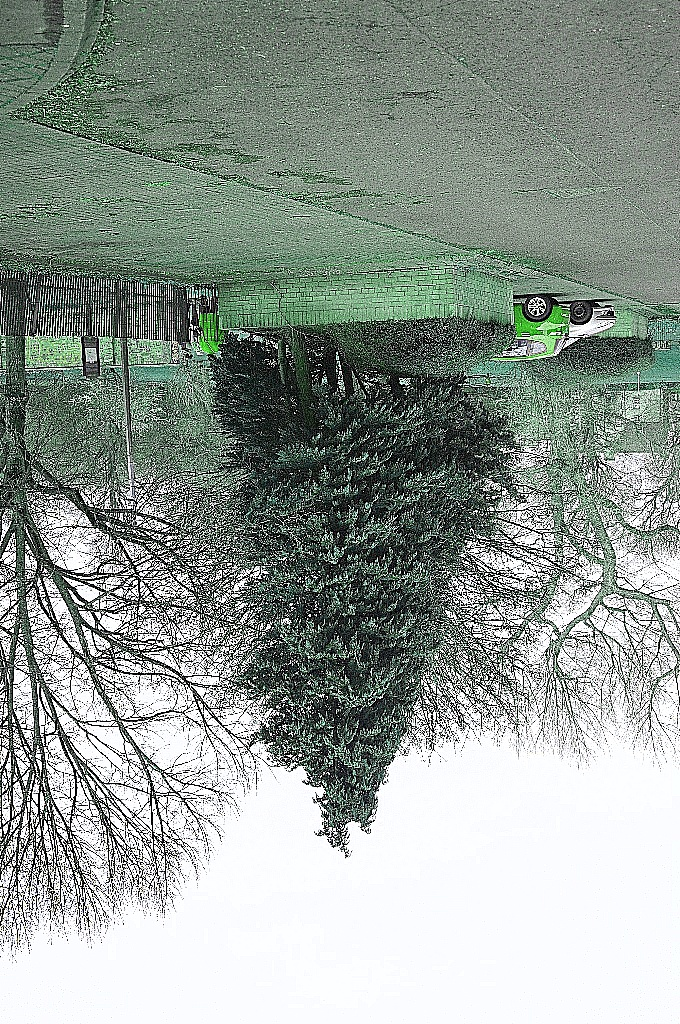Tree: (1, 264, 286, 956), (193, 317, 520, 867), (473, 373, 677, 781)
